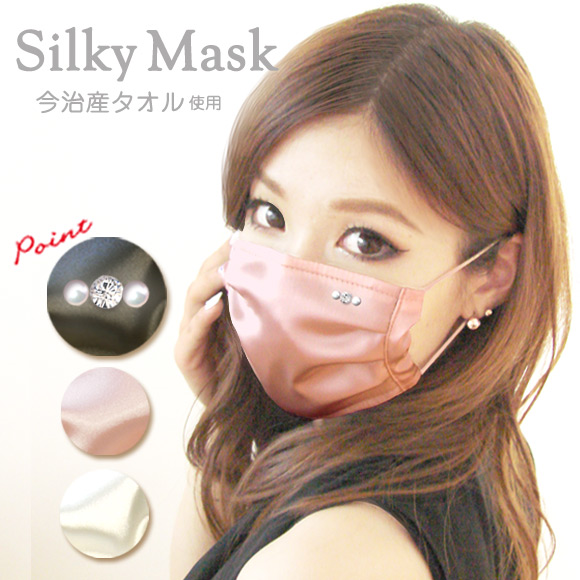mask: (220, 234, 424, 421)
